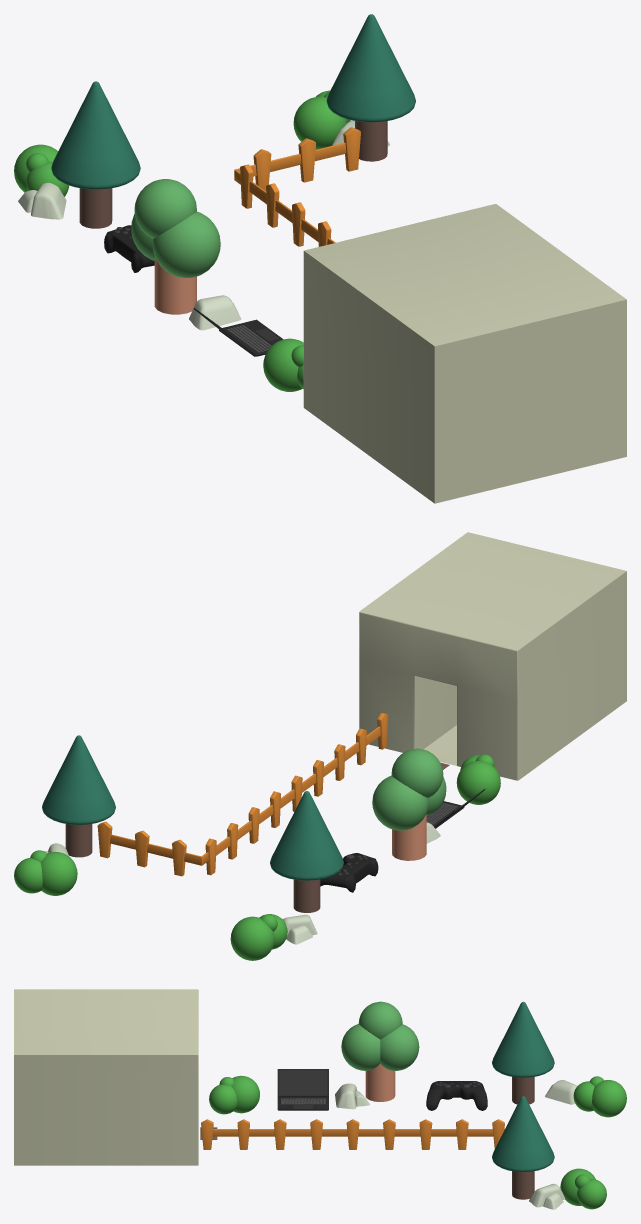
File: Outside.glb
3 renders of one model, top to bottom at view 1: azimuth 30°, elevation 25°; view 2: azimuth 150°, elevation 25°; view 3: azimuth 270°, elevation 25°, orthographic. The views are drawn at different scales.
Parts seen in each view (by area): view 1: House, RoundTree, PineTree, PineTree.001, Bush.002, Bush, Pole.001, Pole, Bush.001, Rock.001, Rock, Controller (+3 smaller); view 2: House, RoundTree, PineTree, PineTree.001, Pole, Bush.002, Bush.001, Bush, Pole.001, Wood, Controller, Rock.001; view 3: House, RoundTree, PineTree.001, PineTree, Pole, Wood, Bush.001, Bush, Bush.002, LaptopScreen, Controller, Rock.002 (+4 smaller).
Part boxes in pixels (x1,y1,x2,y2): House: (303, 204, 626, 503); RoundTree: (131, 179, 220, 314); PineTree: (51, 81, 140, 228); PineTree.001: (326, 14, 415, 161); Bush.002: (293, 90, 350, 149); Bush: (263, 338, 303, 391); Pole.001: (253, 127, 360, 191); Pole: (240, 164, 331, 246); Bush.001: (14, 144, 69, 196); Rock.001: (18, 182, 66, 219); Rock: (189, 295, 241, 330); Controller: (104, 225, 154, 272); House: (359, 532, 626, 780); RoundTree: (372, 748, 446, 860); PineTree: (270, 791, 343, 912); PineTree.001: (42, 735, 115, 857); Pole: (205, 713, 388, 875); Bush.002: (14, 850, 77, 895); Bush.001: (230, 914, 287, 960); Bush: (456, 754, 500, 804); Pole.001: (97, 821, 186, 876); Wood: (216, 726, 380, 855); Controller: (320, 853, 378, 892); Rock.001: (282, 914, 317, 944); House: (14, 989, 198, 1165); RoundTree: (341, 1001, 419, 1101); PineTree.001: (492, 1096, 554, 1199); PineTree: (492, 1001, 554, 1104); Pole: (201, 1119, 504, 1149); Wood: (212, 1129, 493, 1136); Bush.001: (573, 1076, 626, 1117); Bush: (209, 1075, 259, 1114); Bush.002: (560, 1168, 606, 1209); LaptopScreen: (279, 1070, 327, 1095); Controller: (426, 1081, 487, 1110); Rock.002: (529, 1183, 565, 1209).
Size of what is drawn, in the model's own units: 3.98 by 1.69 by 8.06.
